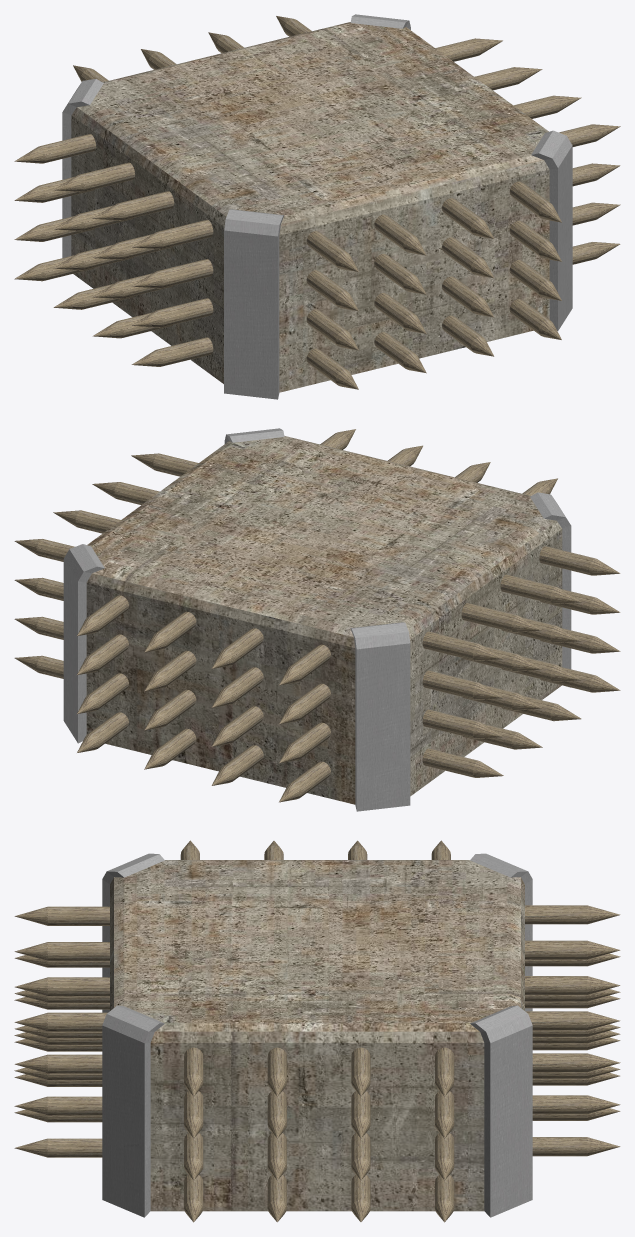
Rendered from Barricade.fbx.
3 renders of one model, top to bottom at view 1: azimuth 30°, elevation 25°; view 2: azimuth 150°, elevation 25°; view 3: azimuth 270°, elevation 25°, orthographic. The views are drawn at different scales.
Parts seen in each view (by area): view 1: Cube.002, Cube.003, Cube.022, Cube.001, Cube.020, Cube.021; view 2: Cube.002, Cube.003, Cube.022, Cube.021, Cube.020, Cube.001; view 3: Cube.002, Cube.003, Cube.021, Cube.001, Cube.020, Cube.022.
Boxes of the visible parts, left/top/right/bottom form: Cube.002: left=71, top=22, right=549, bottom=392; Cube.003: left=62, top=14, right=572, bottom=399; Cube.022: left=14, top=134, right=213, bottom=366; Cube.001: left=306, top=181, right=561, bottom=389; Cube.020: left=435, top=38, right=620, bottom=264; Cube.021: left=73, top=16, right=311, bottom=82; Cube.002: left=86, top=436, right=562, bottom=804; Cube.003: left=63, top=428, right=571, bottom=811; Cube.022: left=422, top=546, right=620, bottom=777; Cube.021: left=77, top=595, right=330, bottom=802; Cube.020: left=14, top=453, right=198, bottom=678; Cube.001: left=320, top=429, right=557, bottom=495; Cube.002: left=110, top=860, right=524, bottom=1211; Cube.003: left=102, top=853, right=532, bottom=1217; Cube.021: left=525, top=905, right=620, bottom=1156; Cube.001: left=14, top=906, right=109, bottom=1157; Cube.020: left=184, top=1047, right=454, bottom=1222; Cube.022: left=180, top=840, right=450, bottom=859.
Bounding box in the file's own units: 8.94 × 3.06 × 8.94.
